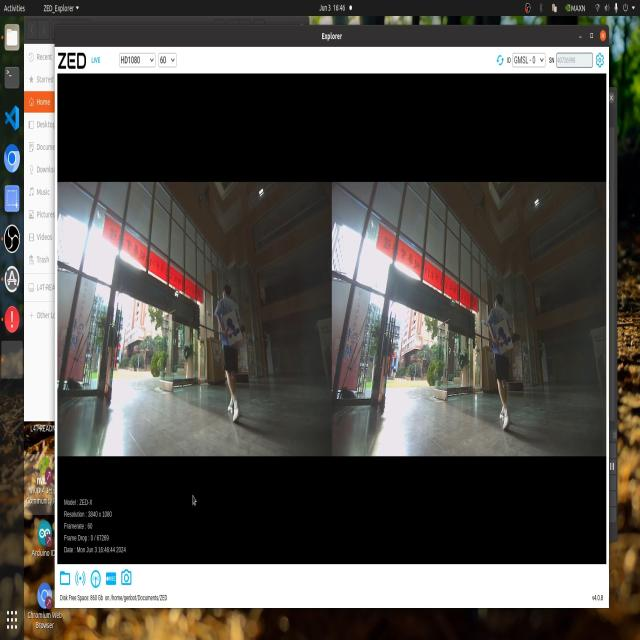blue: (222, 314, 251, 356), (493, 322, 514, 358)
